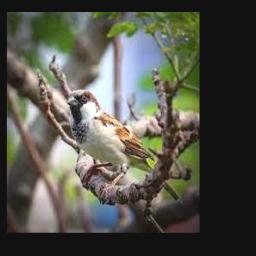Sparrow: (67, 89, 154, 194)
